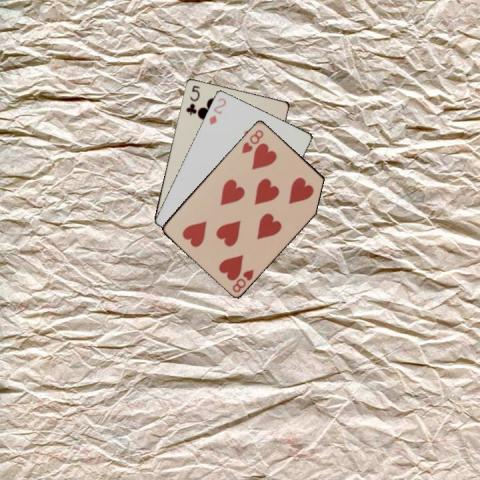2d: (206, 95, 227, 126)
5c: (183, 82, 201, 116)
8h: (238, 126, 264, 155), (230, 267, 256, 294)
